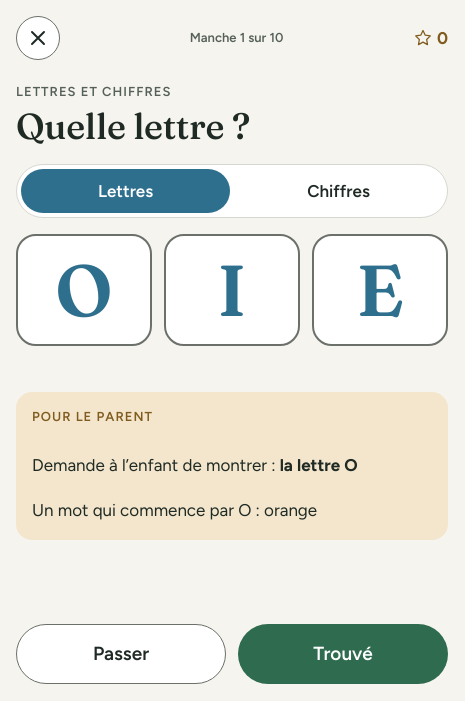
Test: Répondre en montrant, en jeu › lettres : passer aux chiffres retire les choix des lettres
Click the radio button "Chiffres": coordinates (339, 191) [307,181,370,201]
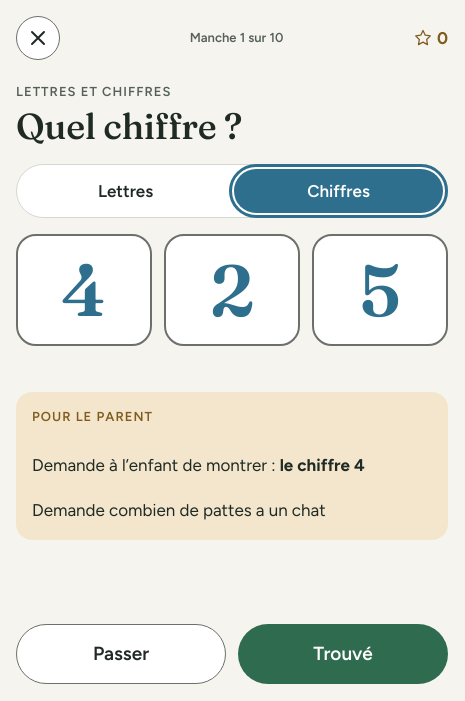
Expected: the text "Demande à l’enfant de montrer : le chiffre 4" is shown, [32,455,365,475]
